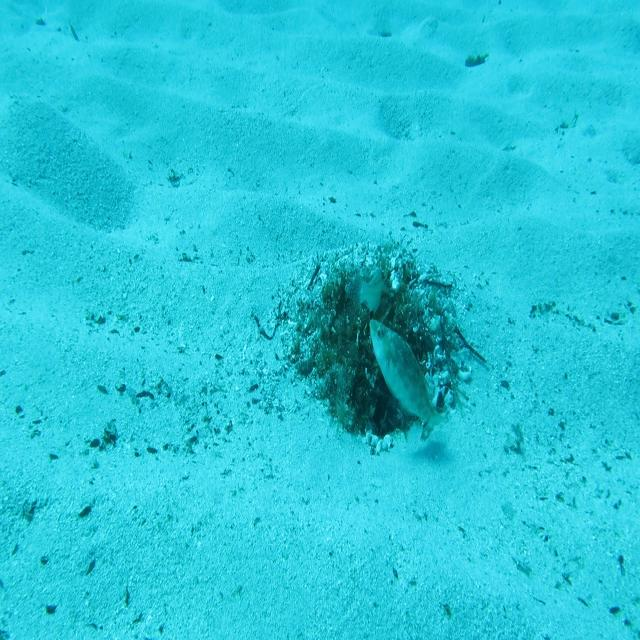GB: (367, 318, 448, 442)
core_nest: (345, 287, 392, 335)
female: (341, 261, 386, 329)
nest: (262, 224, 477, 477)
vegetation: (462, 52, 490, 68)
